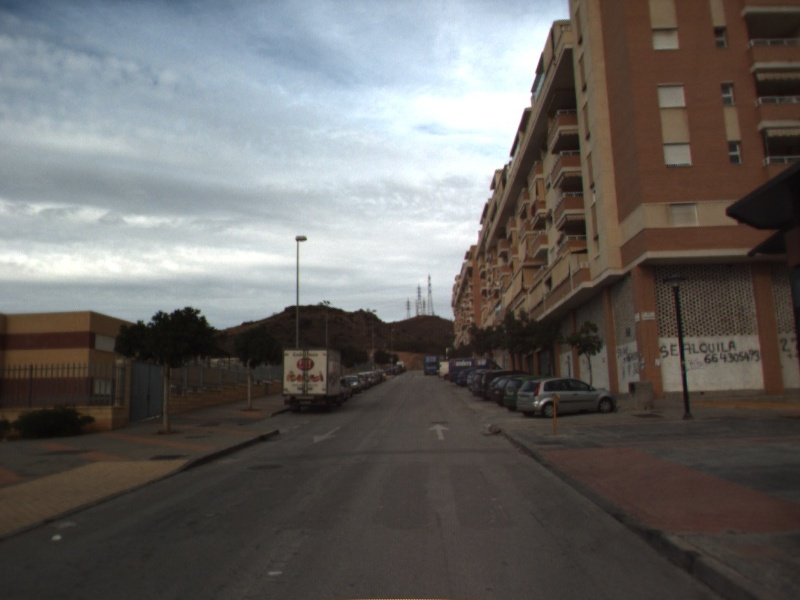STRAIGHT: (426, 421, 452, 441)
